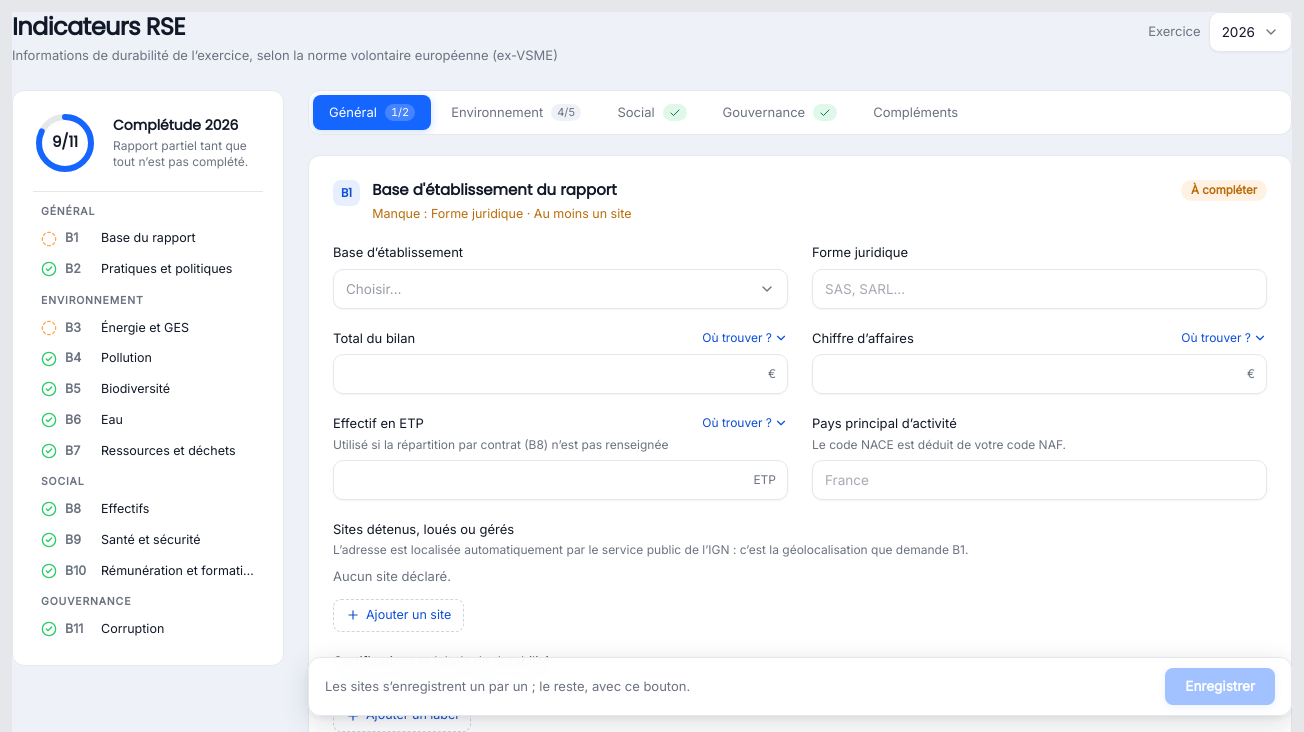
it: IndicatorsPage › « Où trouver ? » déplie la source de la donnée sous son champ
The image size is (1304, 732).
Click the tab "Environnement 4/5" at (516, 112), box [435, 94, 597, 130]
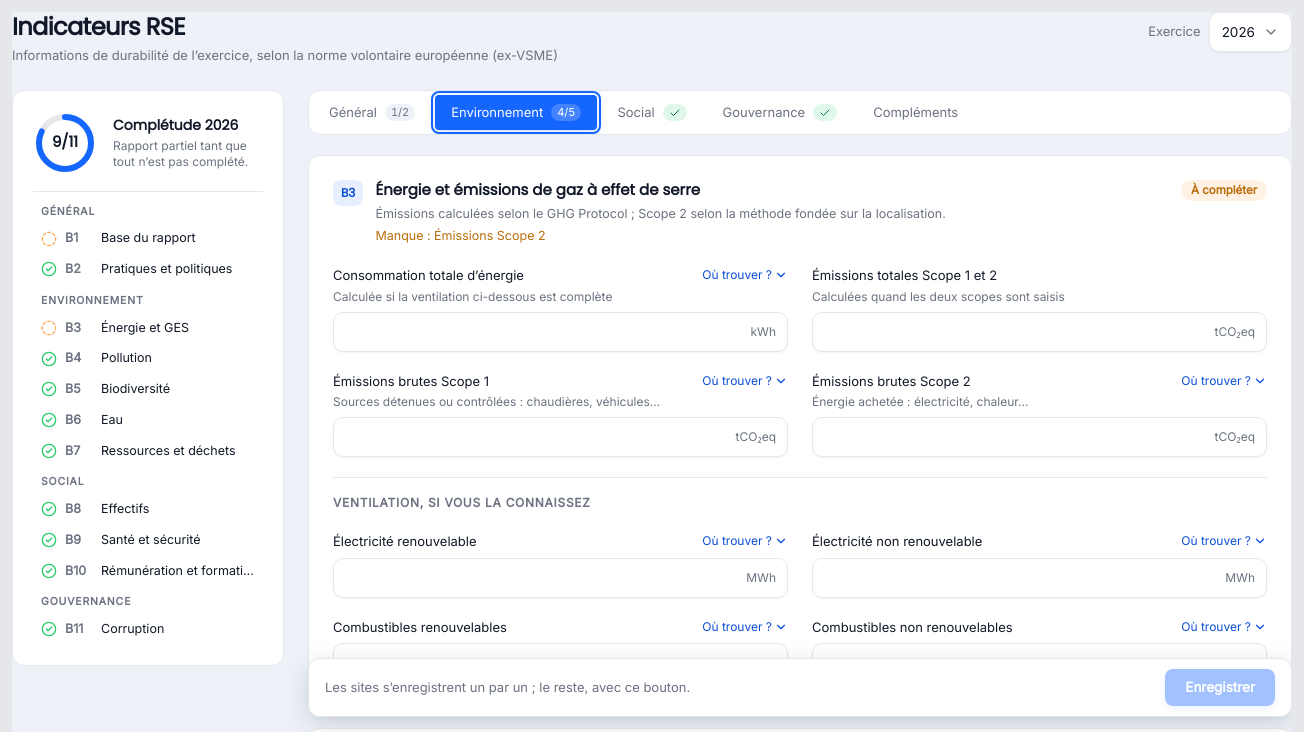
Expected: the text "Ce chiffre vient d’un bilan carbone" is not shown
Click the button "Où trouver ?" in the row of "Émissions brutes Scope 1" at (745, 381), box [702, 372, 788, 390]
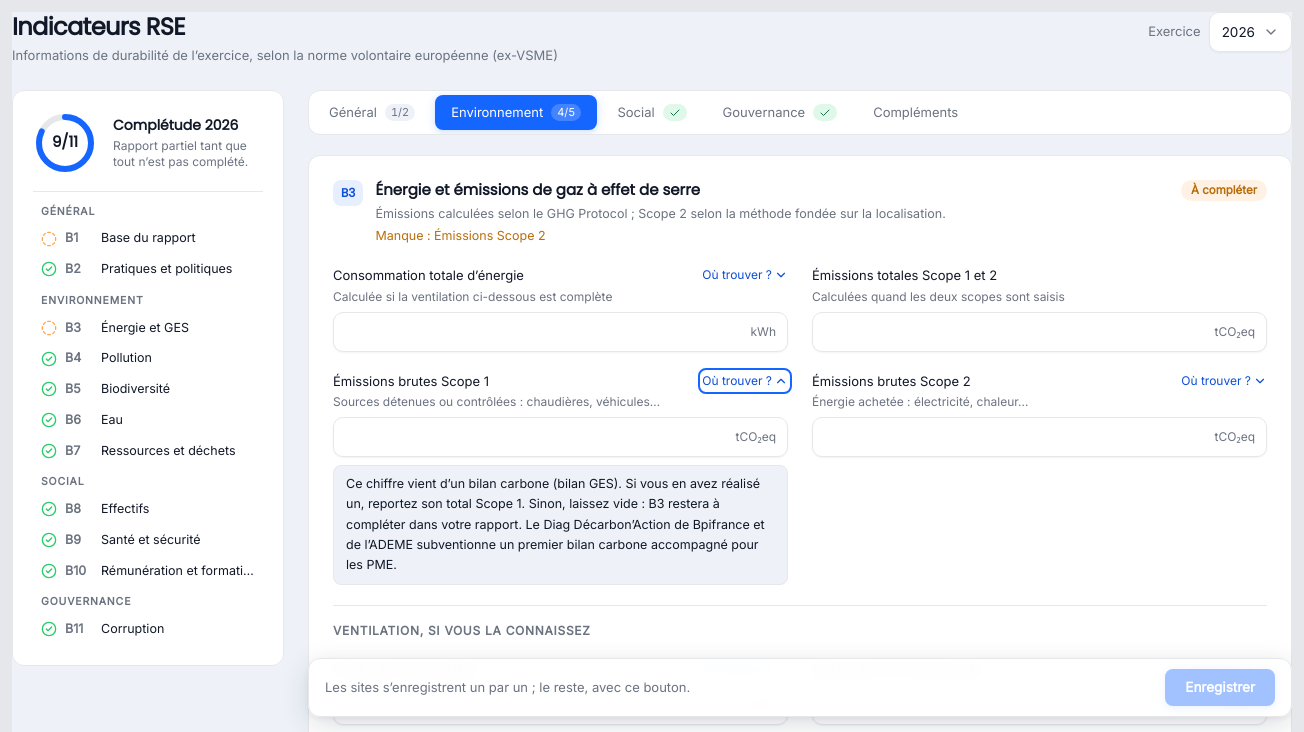
Now the button "Où trouver ?" in the row of "Émissions brutes Scope 1" is expanded, box [702, 372, 788, 390]
